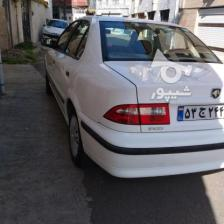plate: (172, 105, 223, 121)
